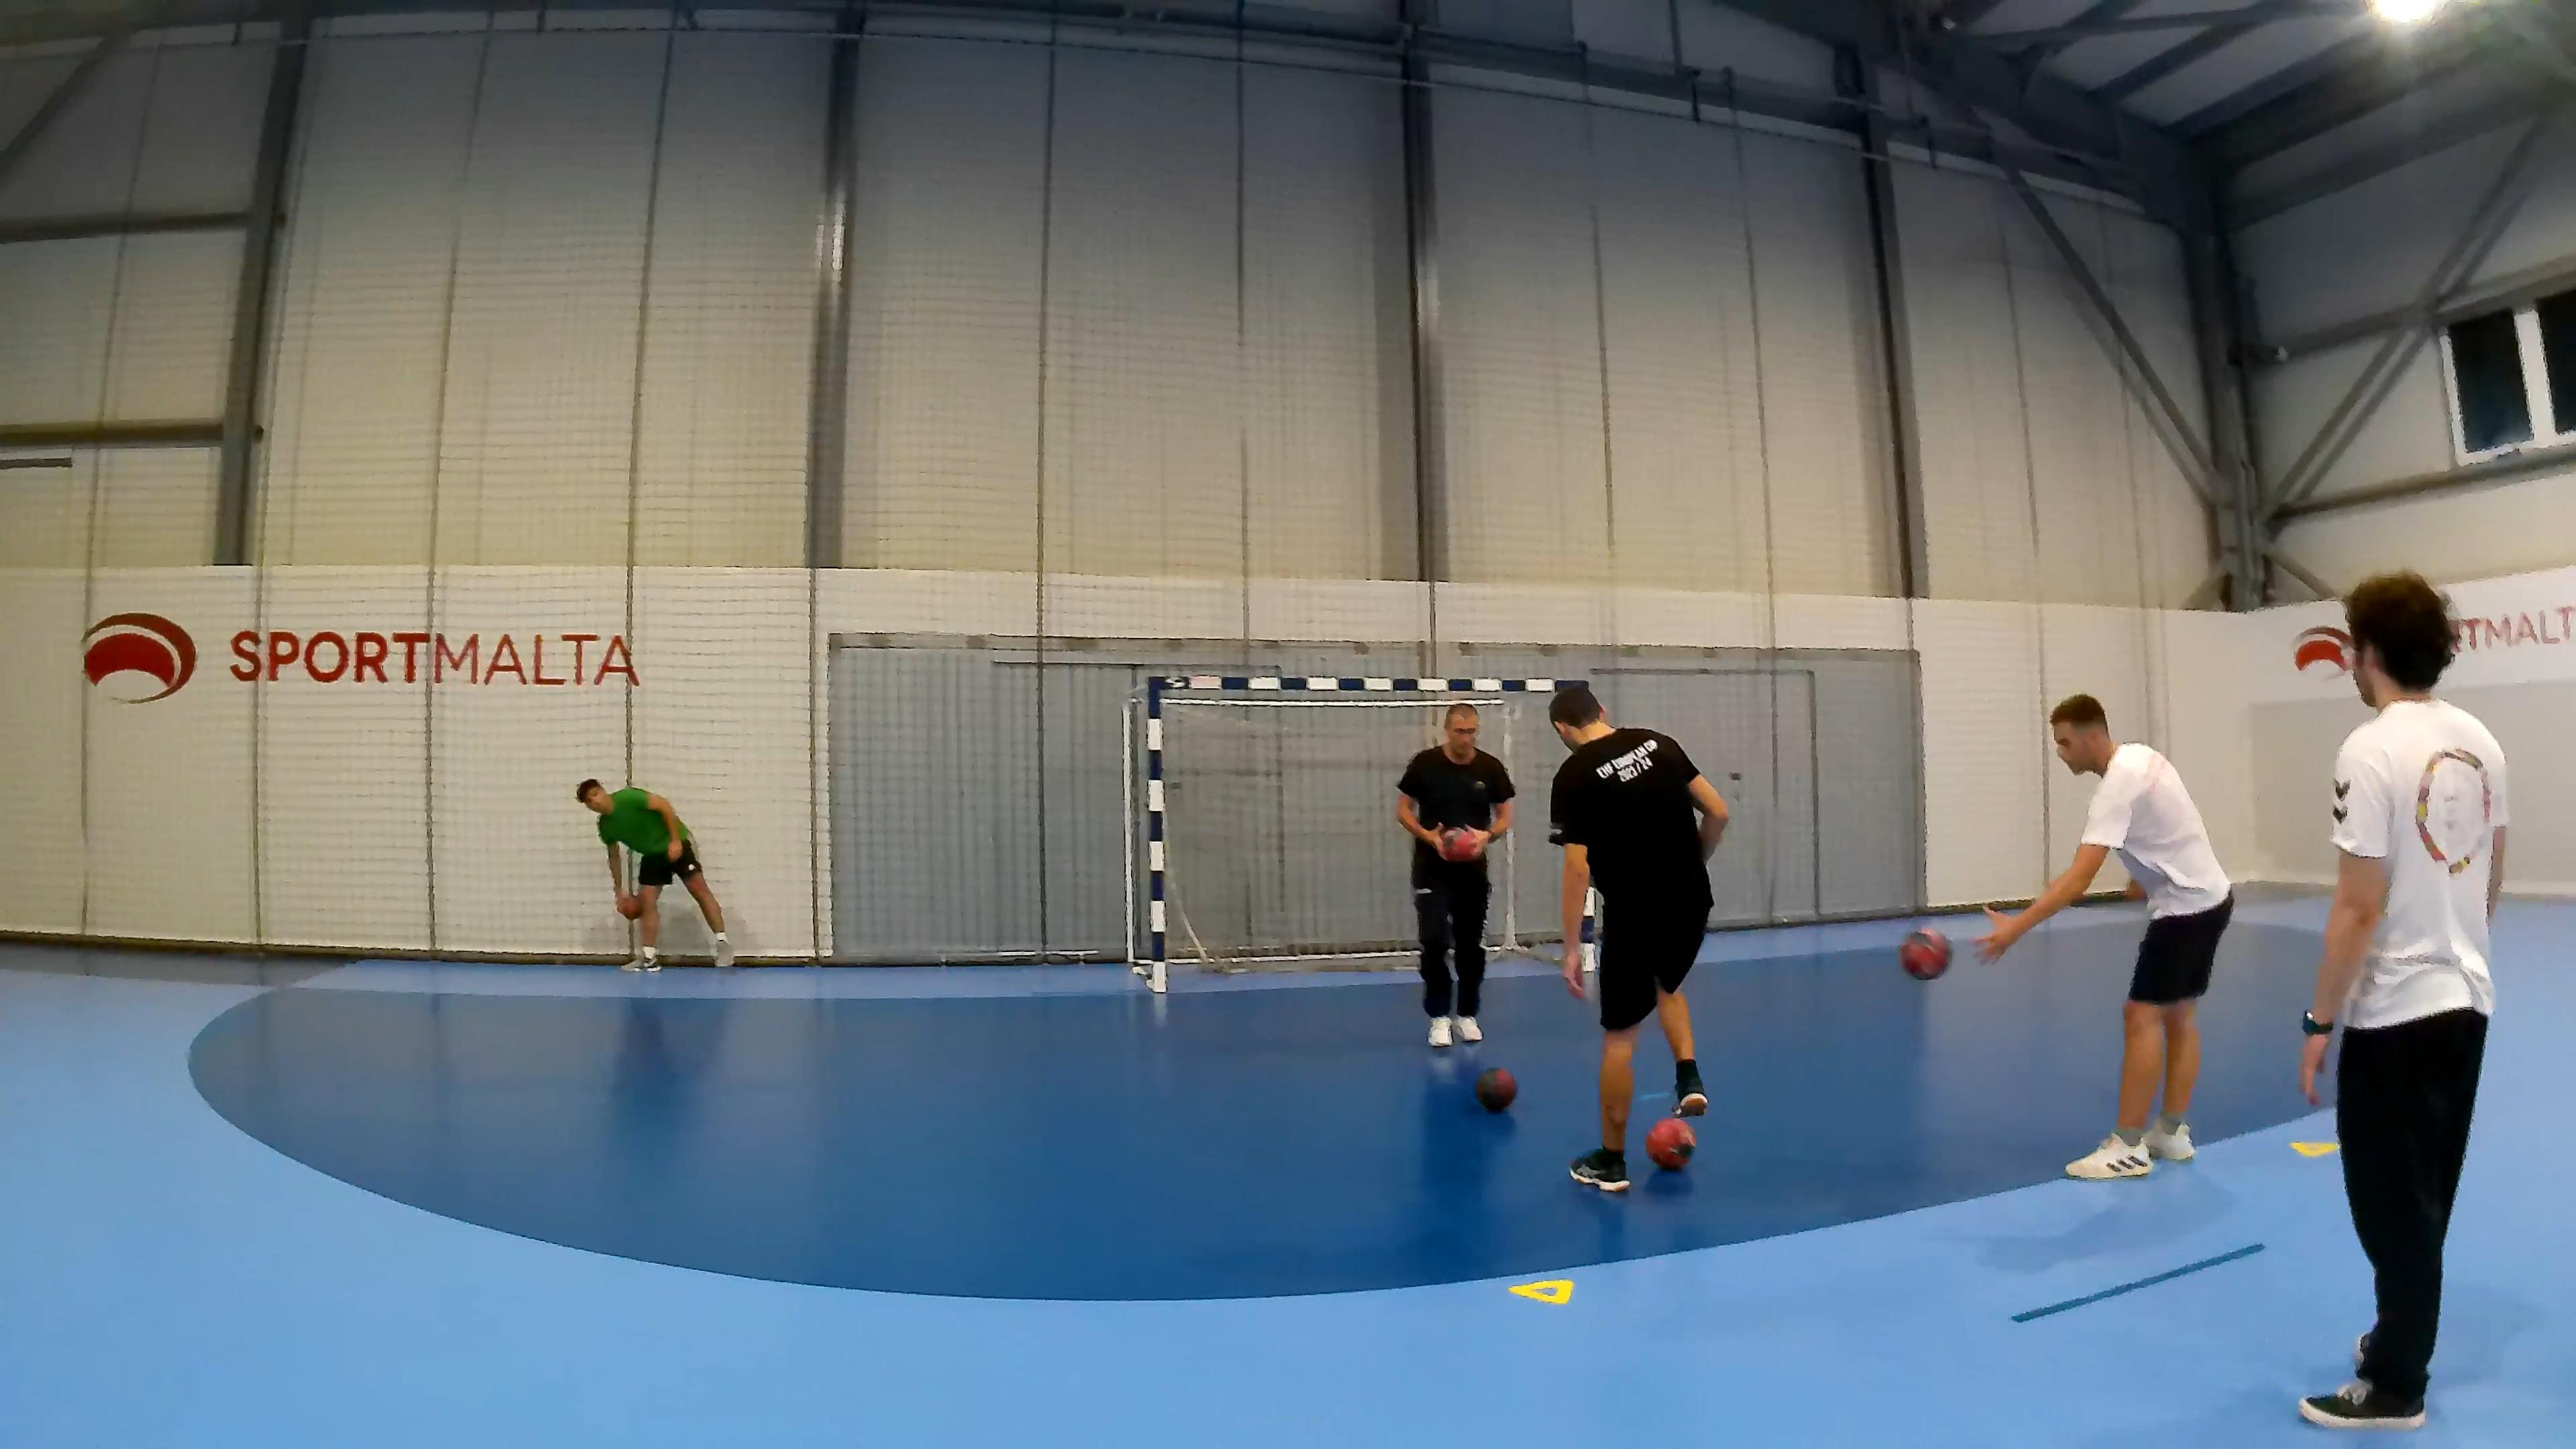handball: (1898, 927, 1951, 980), (1644, 1116, 1695, 1169), (1474, 1065, 1516, 1113), (1438, 824, 1486, 862)
